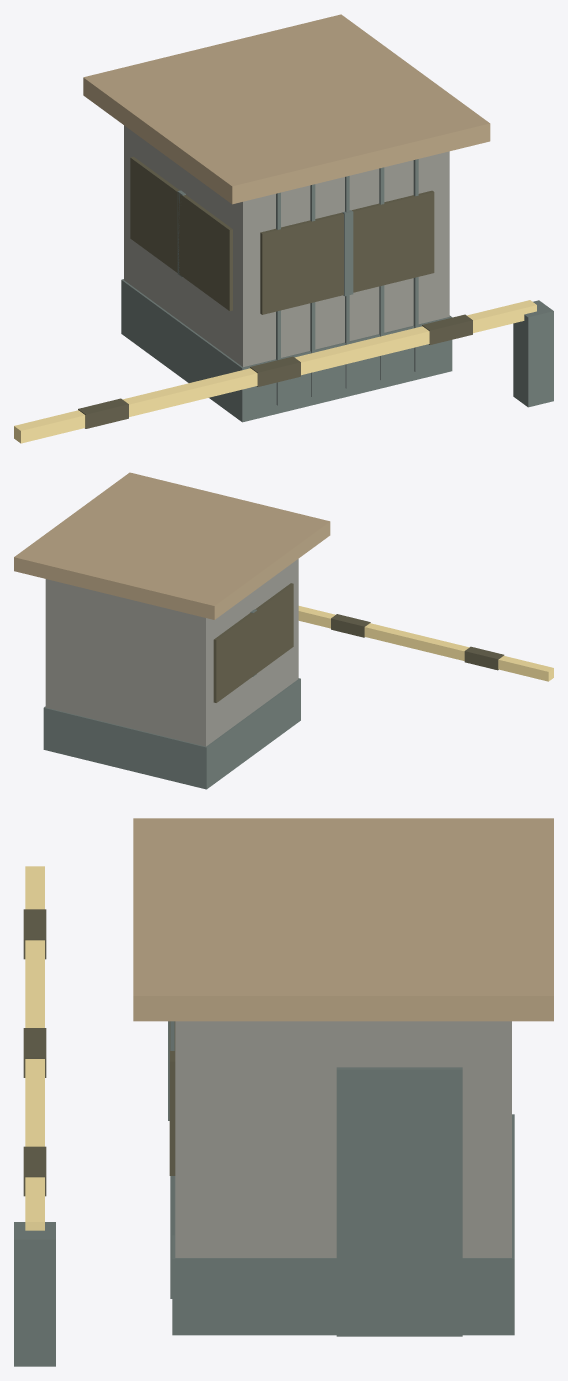
The model's file is SM_Garita_v1_LOD0.fbx.
3 renders of one model, top to bottom at view 1: azimuth 30°, elevation 25°; view 2: azimuth 150°, elevation 25°; view 3: azimuth 270°, elevation 25°, orthographic. The views are drawn at different scales.
Visible parts, largest first — view 1: SM_garita_v1_LOD0, Barrera; view 2: SM_garita_v1_LOD0, Barrera; view 3: SM_garita_v1_LOD0, Barrera.
Boxes of the visible parts, <box> form: SM_garita_v1_LOD0: <box>83,14,553,422</box>; Barrera: <box>14,300,536,443</box>; SM_garita_v1_LOD0: <box>14,472,330,789</box>; Barrera: <box>298,606,553,681</box>; SM_garita_v1_LOD0: <box>14,818,553,1366</box>; Barrera: <box>23,866,46,1230</box>.
Bounding box in the file's own units: 6.15 × 2.8 × 3.85.
